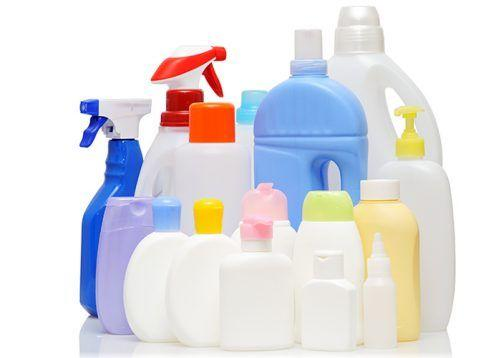HDPE: (252, 60, 368, 196), (379, 159, 455, 333), (78, 139, 145, 318), (350, 201, 423, 343), (164, 233, 240, 349), (122, 231, 200, 342), (95, 195, 157, 331), (221, 241, 295, 350), (355, 224, 412, 358), (149, 43, 227, 126), (299, 279, 356, 352), (74, 99, 153, 148), (188, 102, 235, 143), (393, 104, 426, 158), (301, 188, 355, 220), (192, 197, 225, 234), (150, 195, 182, 231), (312, 247, 345, 279), (359, 179, 400, 200), (239, 216, 273, 241)
PP: (333, 5, 386, 53), (293, 28, 323, 60)
